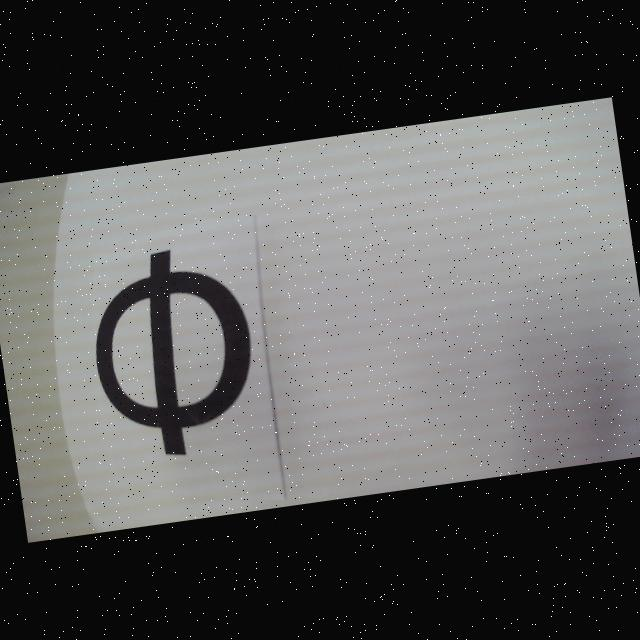PHI: (82, 239, 267, 468)
